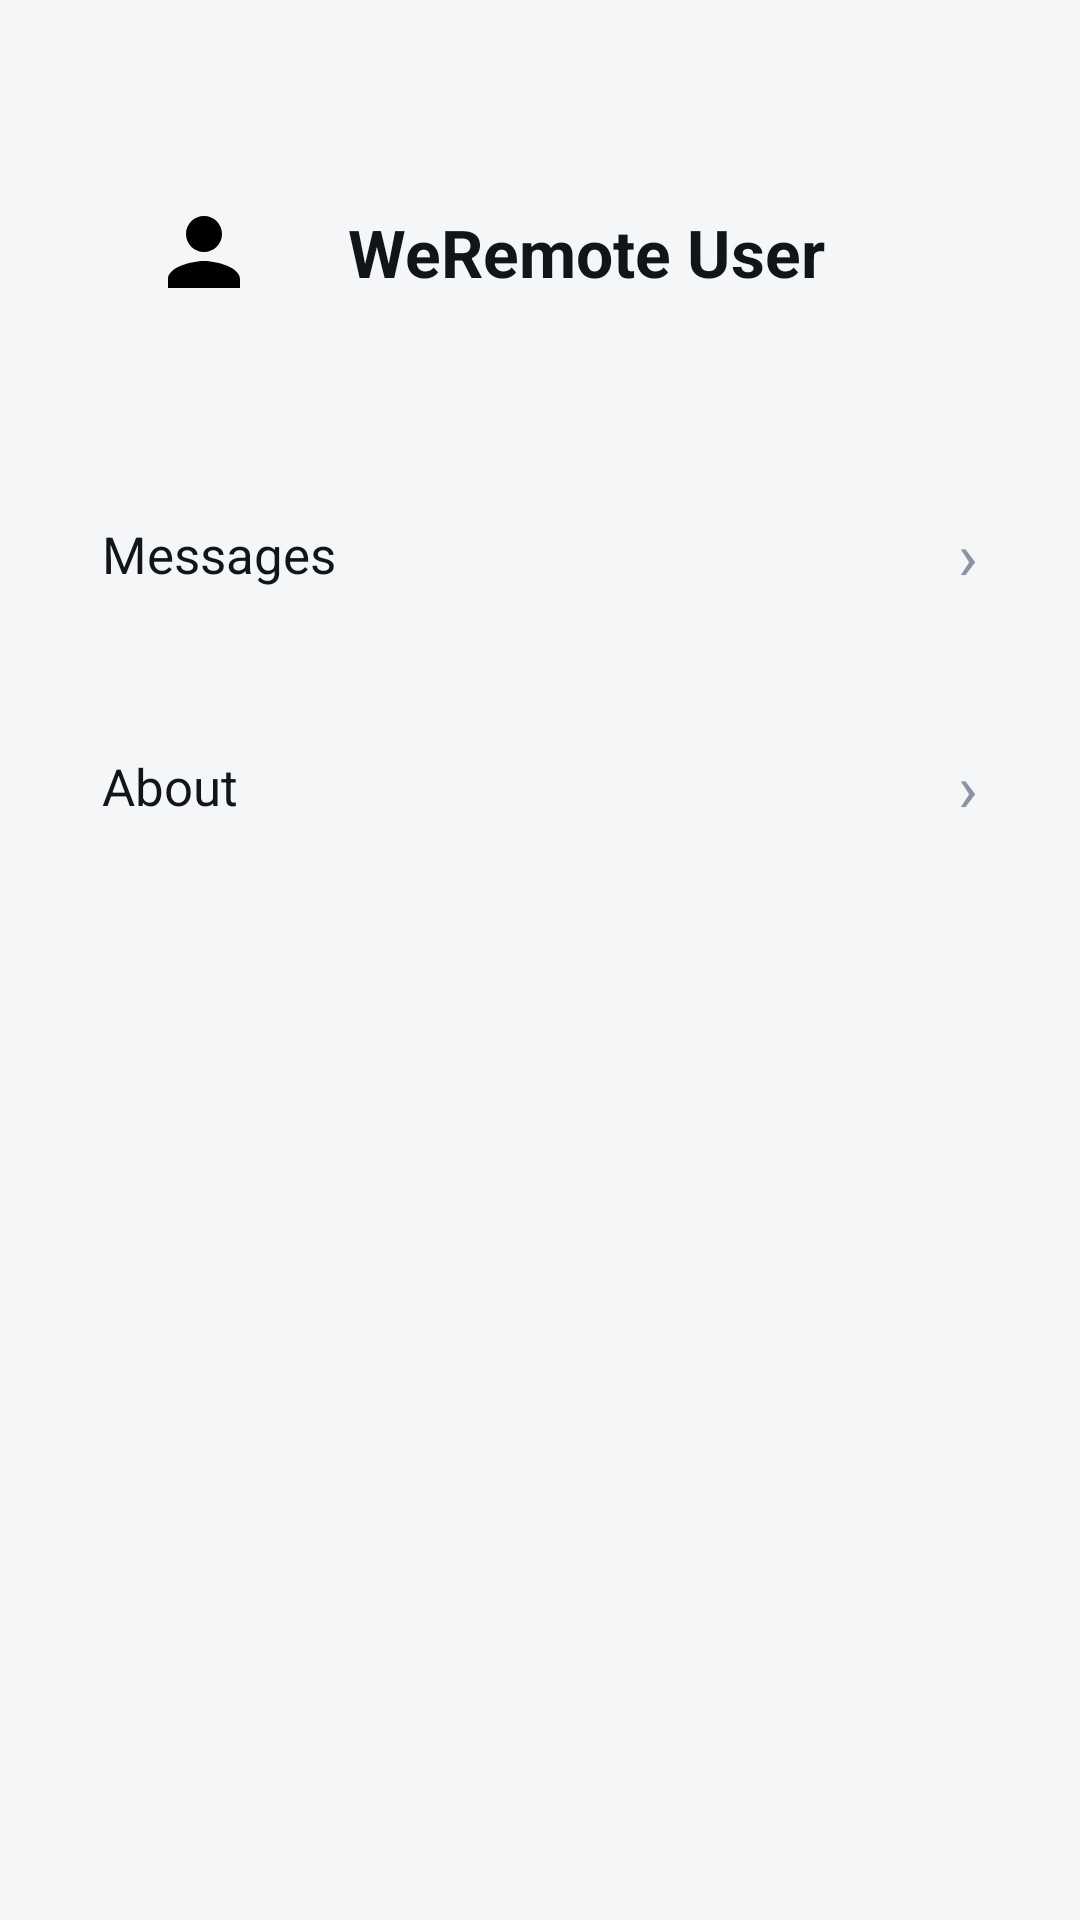

Icon click points for this 1080*1920 phone screenshot, format point (x, y):
person: point (204, 252)
